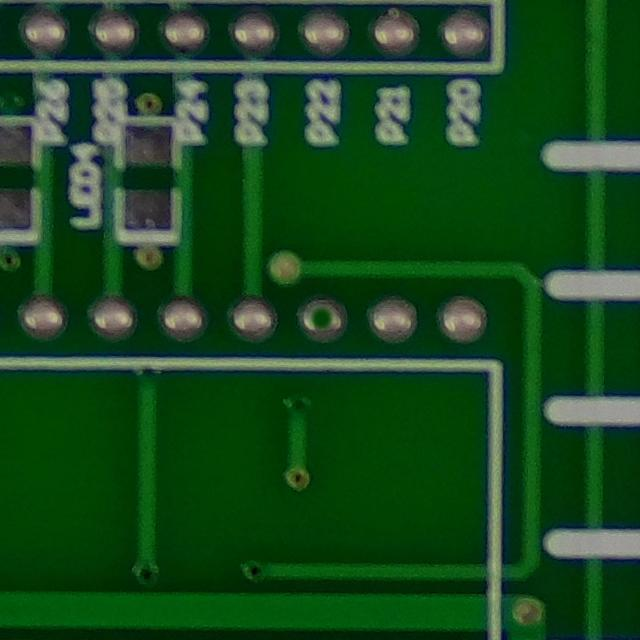missing_hole: (287, 291, 353, 350)
